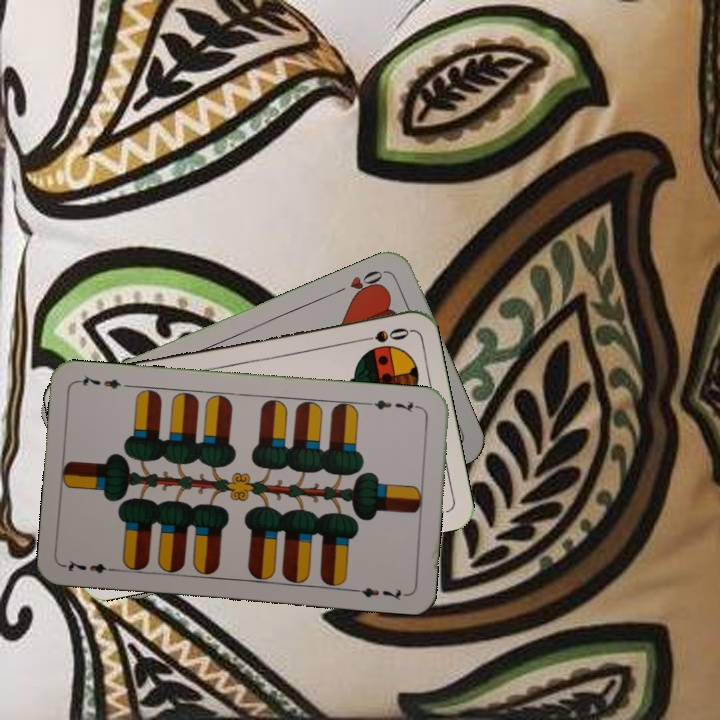E7: (364, 396, 423, 416), (61, 556, 120, 576)
HO: (331, 266, 387, 301)
SO: (353, 323, 412, 346)
